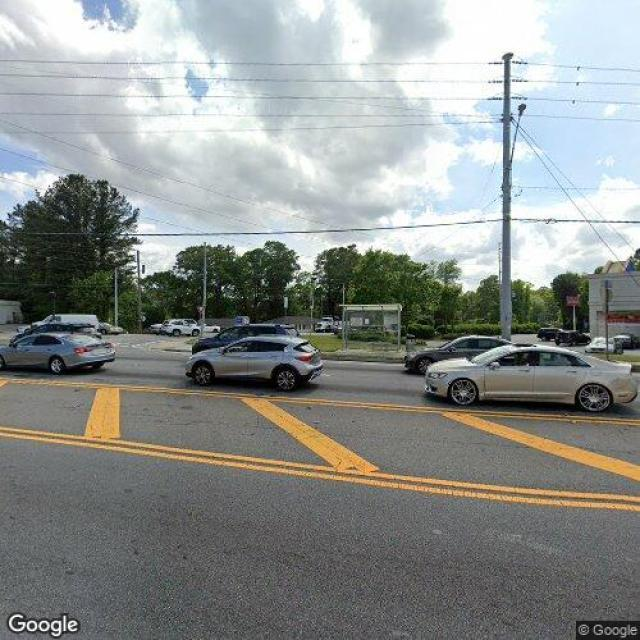seating: (366, 342, 394, 352)
shelter: (339, 304, 403, 353)
trash_can: (405, 334, 415, 352)
